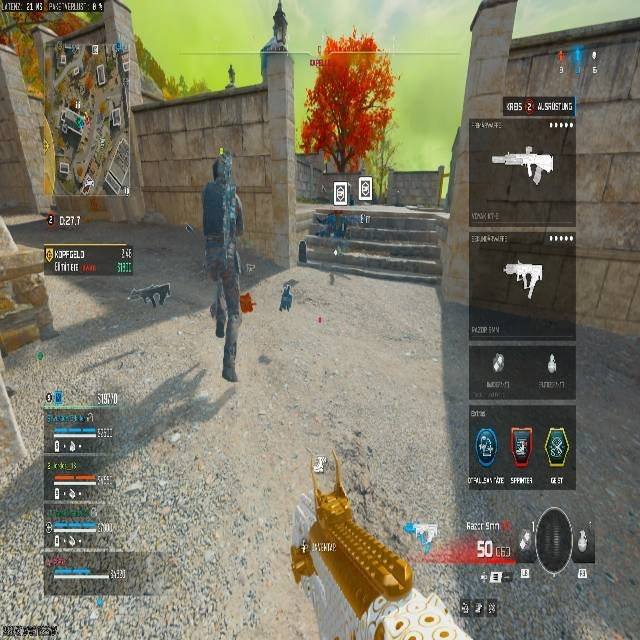player: (278, 278, 299, 312)
